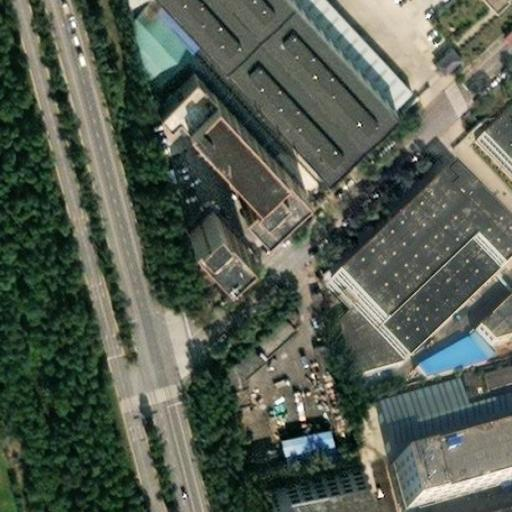building: (328, 156, 512, 352), (142, 66, 293, 255), (377, 370, 512, 448), (394, 421, 512, 501), (246, 470, 368, 512), (127, 0, 194, 76), (338, 300, 404, 366), (419, 322, 499, 368), (267, 423, 325, 462), (223, 338, 270, 383), (254, 310, 299, 353), (478, 288, 512, 336), (484, 95, 512, 151), (431, 41, 465, 74), (482, 358, 512, 388)
